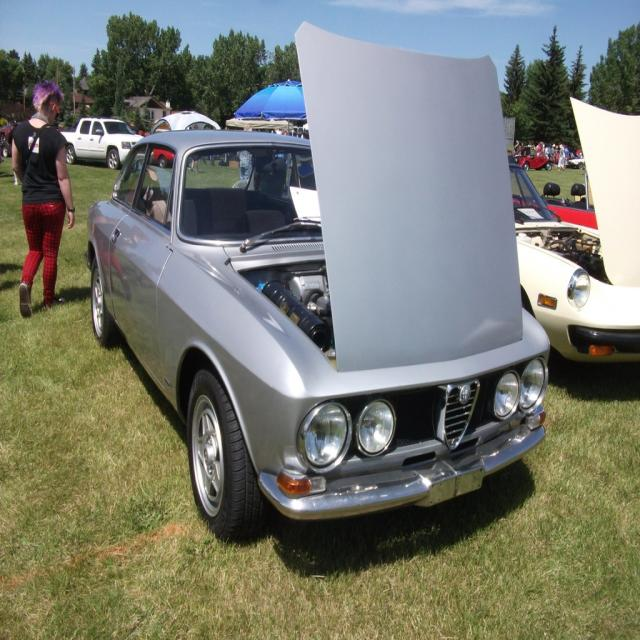car: (86, 21, 552, 542)
